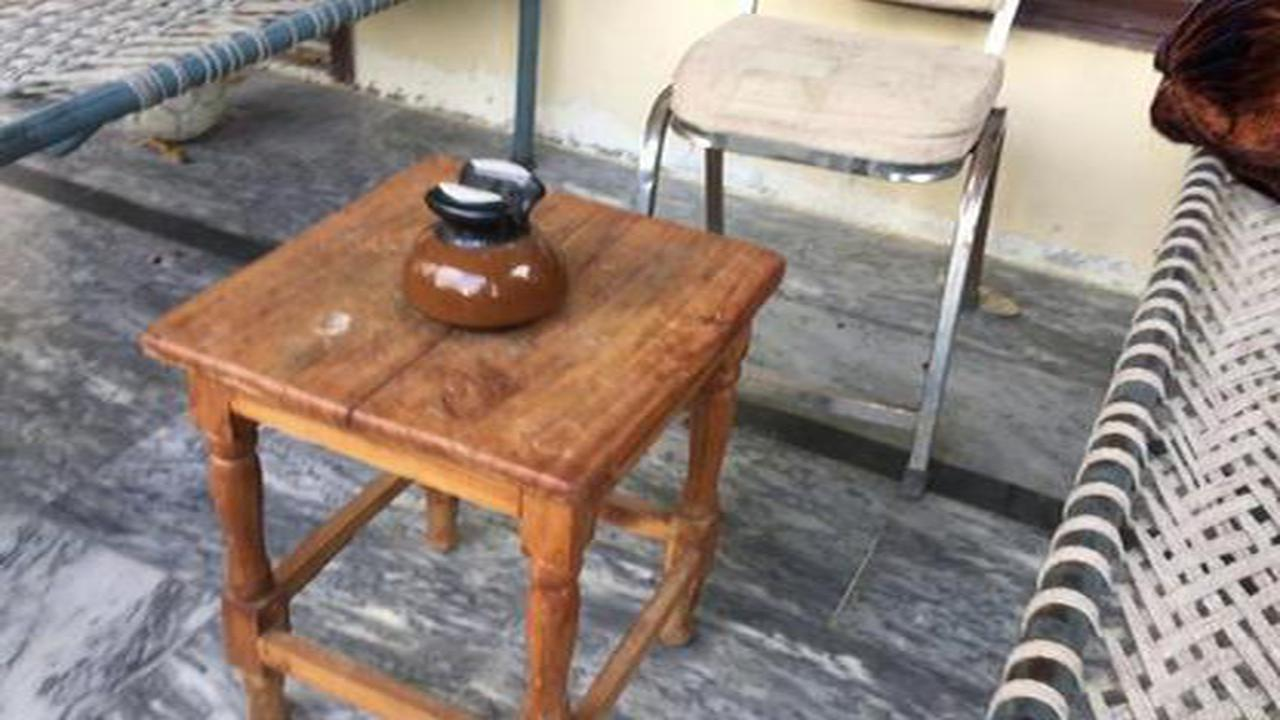insulator_pin: (385, 146, 573, 338)
